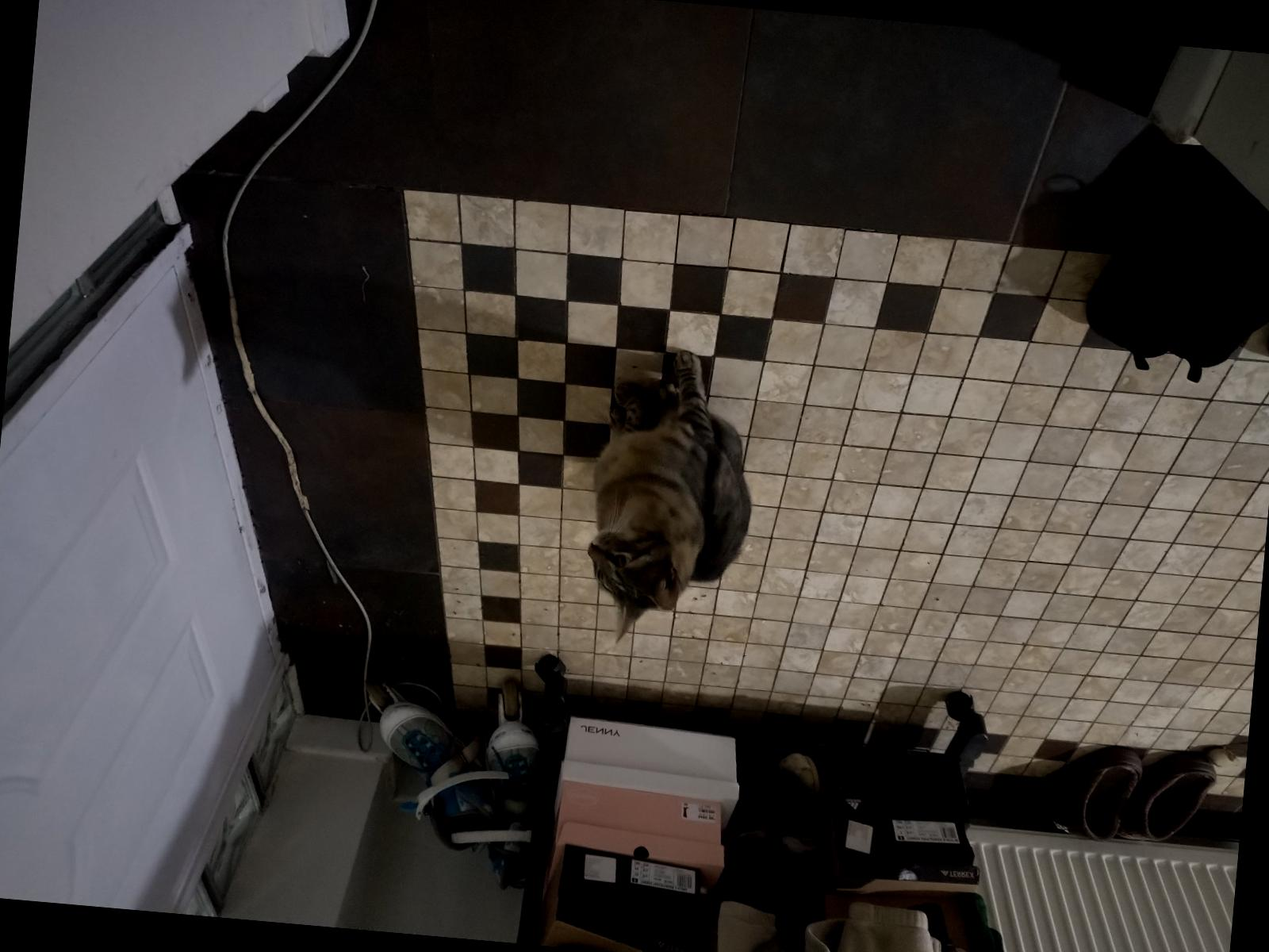macka: (577, 343, 769, 660)
